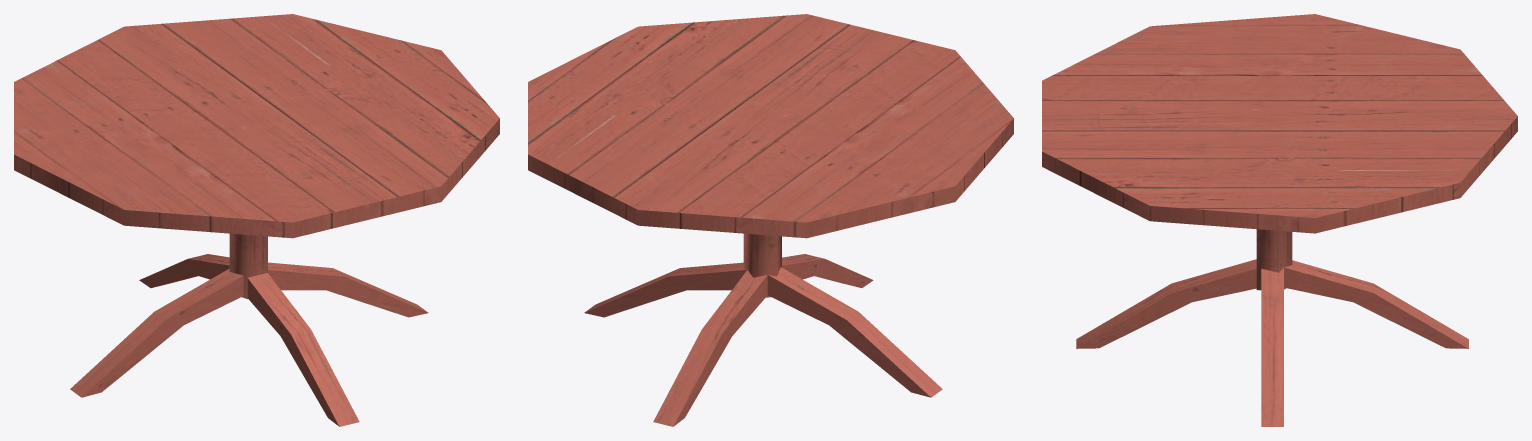
Rendered from Table_16.glb.
3 views of the same model, side by side, from view 1: azimuth 30°, elevation 25°; view 2: azimuth 150°, elevation 25°; view 3: azimuth 270°, elevation 25° (orthographic). The views are drawn at different scales.
Parts seen in each view (by area): view 1: Table_16; view 2: Table_16; view 3: Table_16.
Part boxes in pixels (x1=…): Table_16: x1=14, y1=14, x2=499, y2=426; Table_16: x1=528, y1=14, x2=1013, y2=426; Table_16: x1=1042, y1=14, x2=1517, y2=426.
Bounding box in the file's own units: 1.68 × 0.8752 × 1.66.
1 material, 1 textured.
